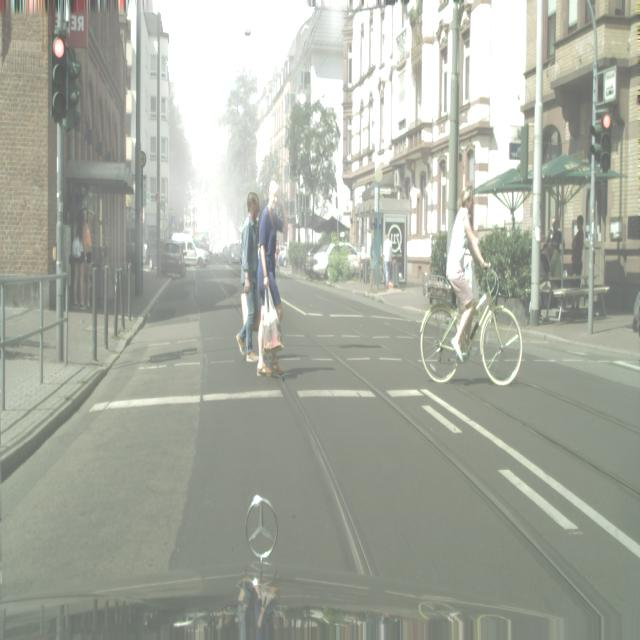bus: (256, 179, 288, 378), (238, 189, 260, 362), (71, 218, 84, 309), (82, 214, 92, 310), (571, 215, 584, 281), (383, 232, 393, 290)
person: (304, 241, 363, 279), (172, 234, 208, 269), (161, 241, 187, 279), (227, 242, 242, 266)
truck: (419, 171, 522, 386)
